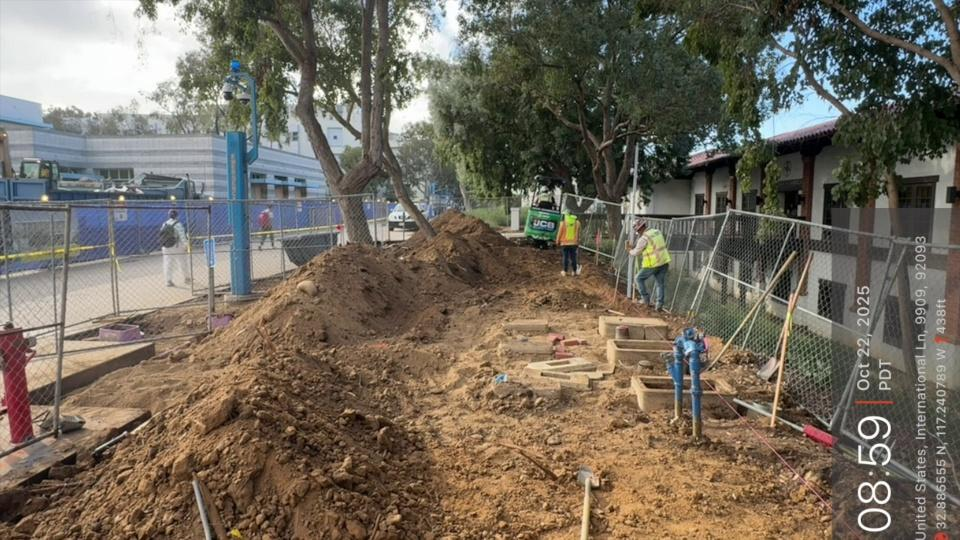Exacavator: (516, 176, 563, 257)
